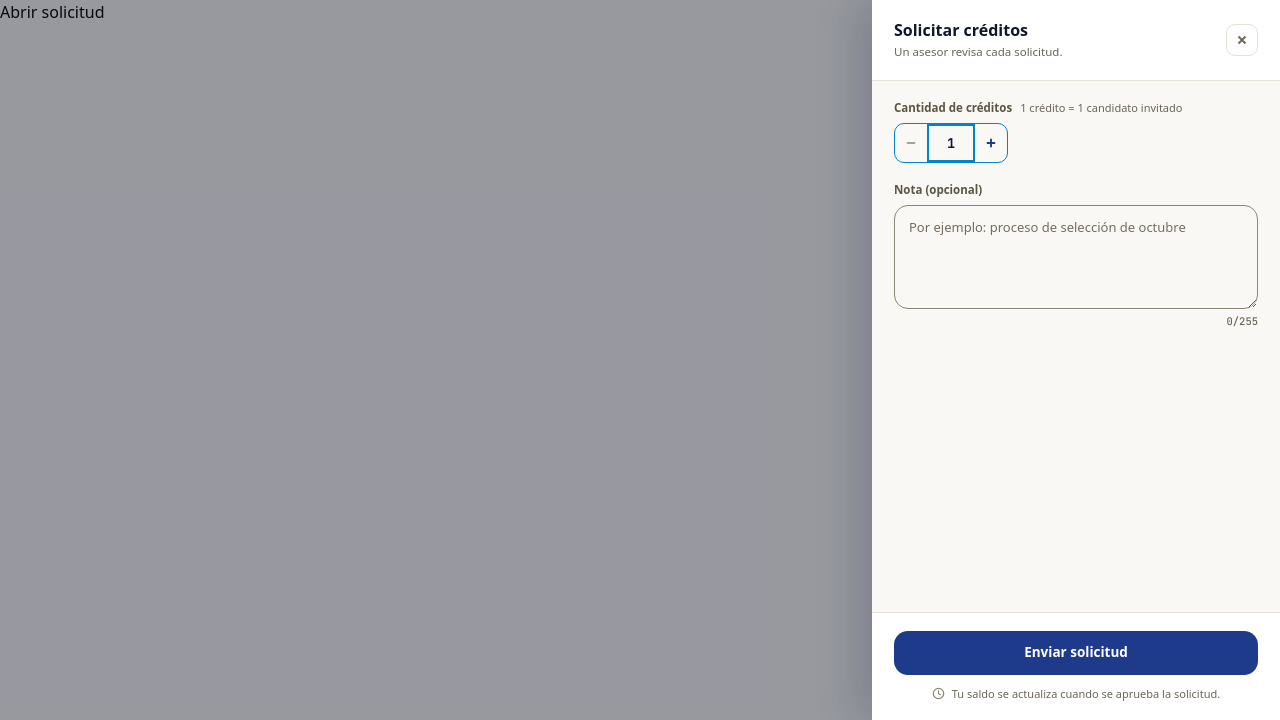
Test: SolicitarCreditos · envío › envía la cantidad y la nota con el contrato actual; al 201 confirma sin tocar el saldo
The image size is (1280, 720).
Replace the text in the number field labelled "Cantidad de créditos" with "12" at (951, 143), box [927, 124, 975, 162]
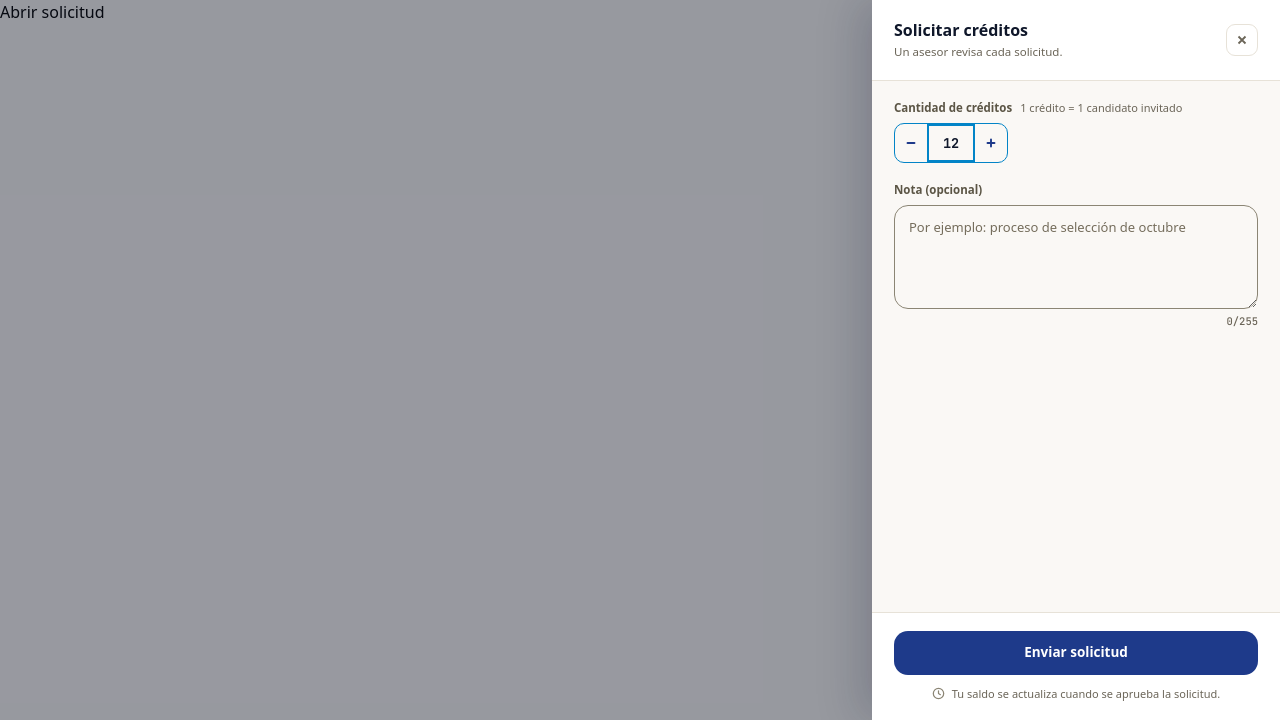
Click the button named "Agregar un crédito".
click(991, 143)  # box [975, 124, 1007, 162]
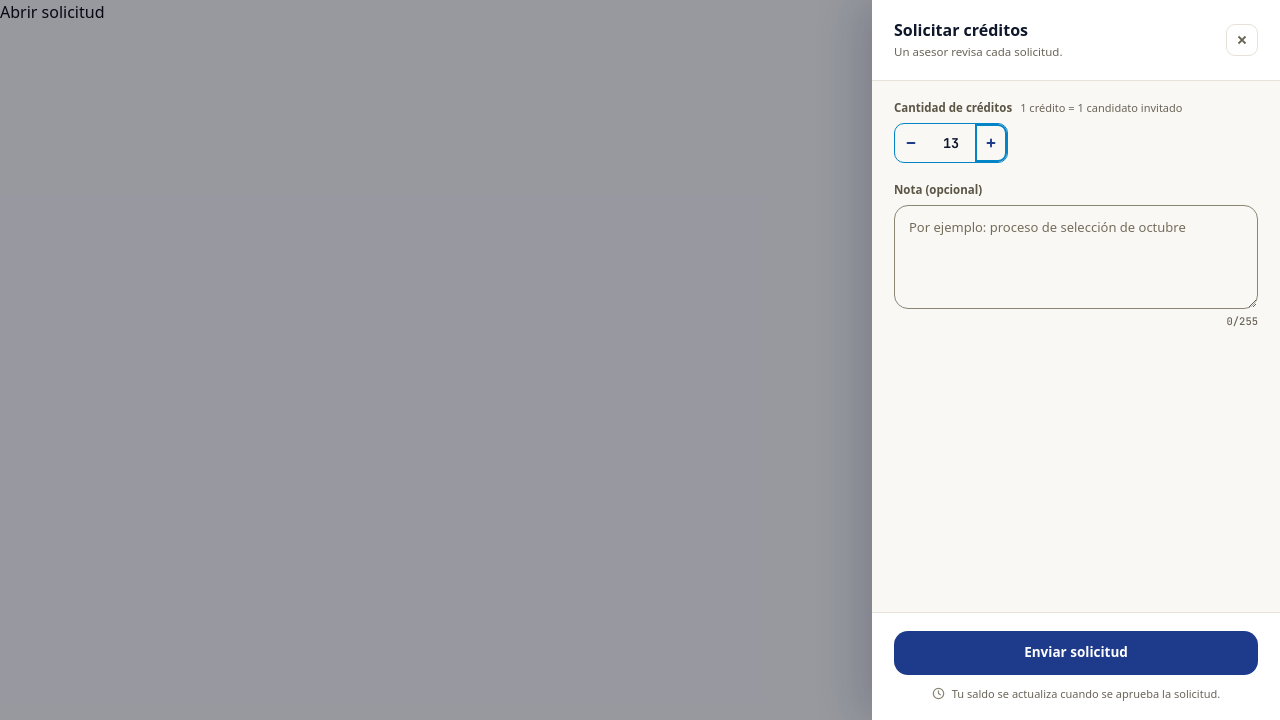
Type "  Vacantes de octubre  " into the text box labelled "Nota (opcional)".
click(1076, 257); type("  Vacantes de octubre  ")  # box [894, 205, 1258, 309]
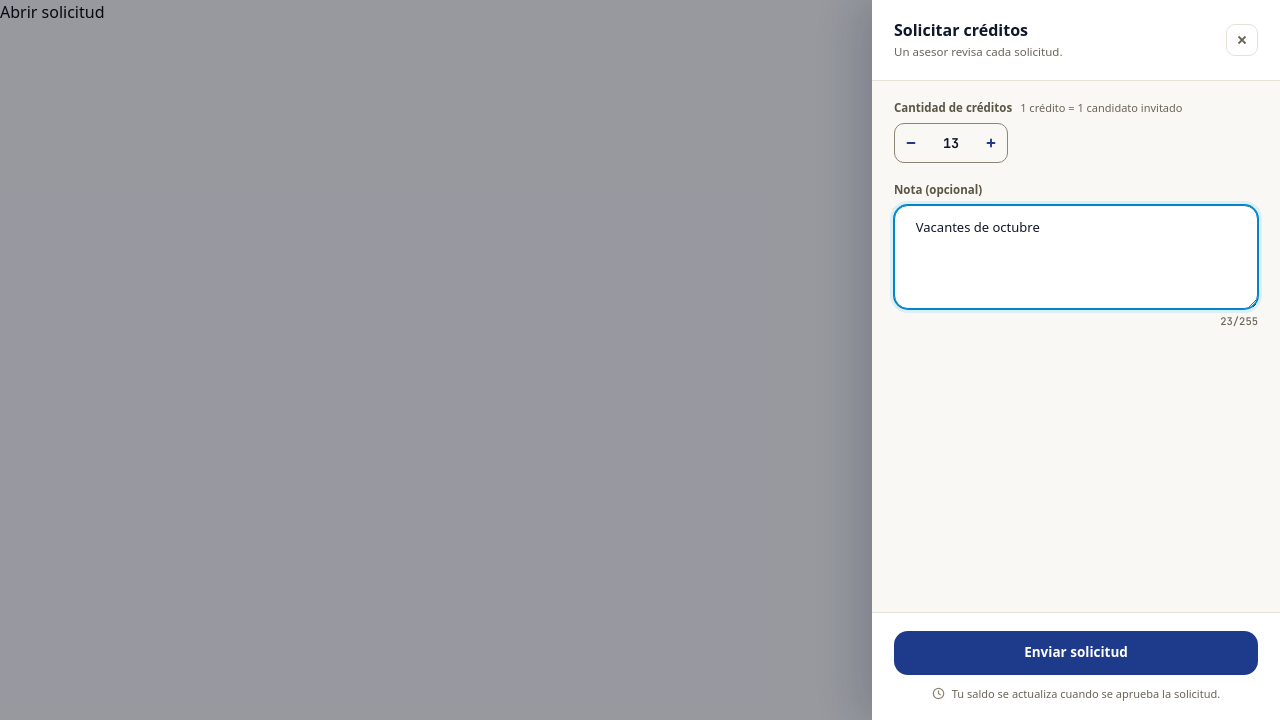
Click the button "Enviar solicitud".
click(1076, 652)  # box [894, 630, 1258, 674]
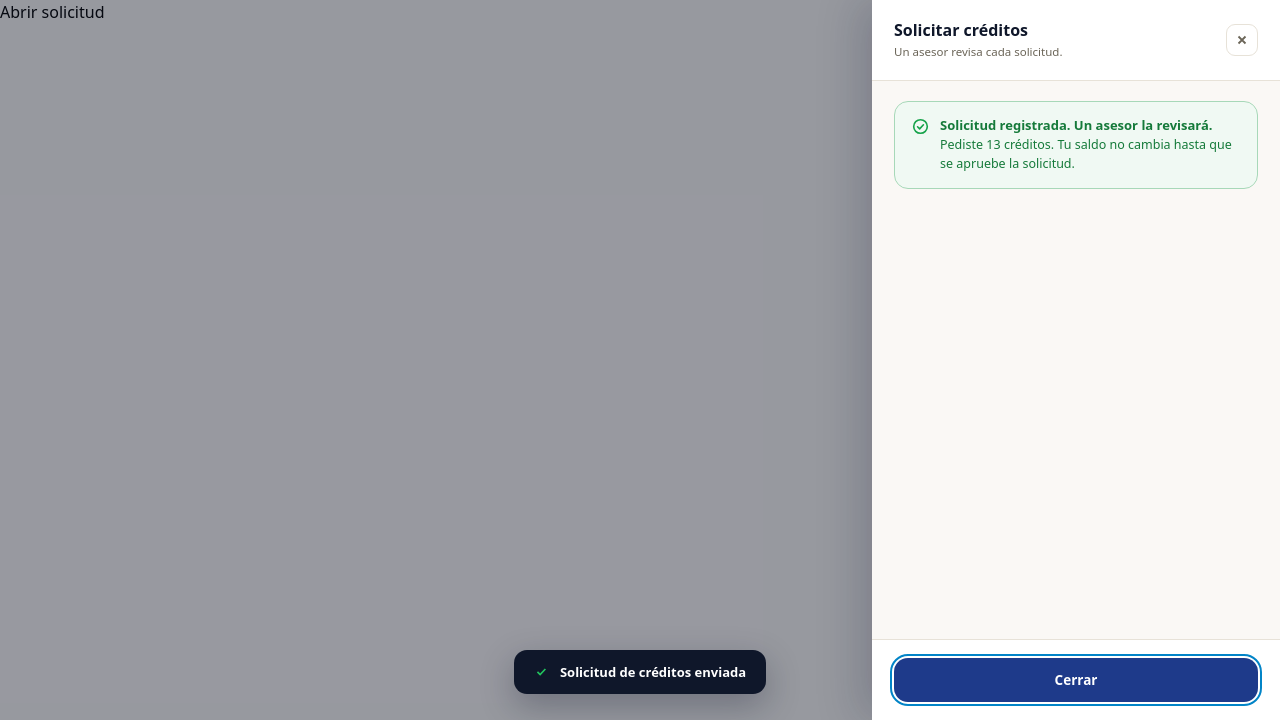
Expected: the text "Solicitud registrada. Un asesor la revisará." is shown 2 times
Expected: the text "Pediste 13 créditos. Tu saldo no cambia hasta que se apruebe la solicitud." is shown, [940, 136, 1240, 173]
Expected: the text "Solicitud de créditos enviada" is shown, [560, 663, 746, 681]
